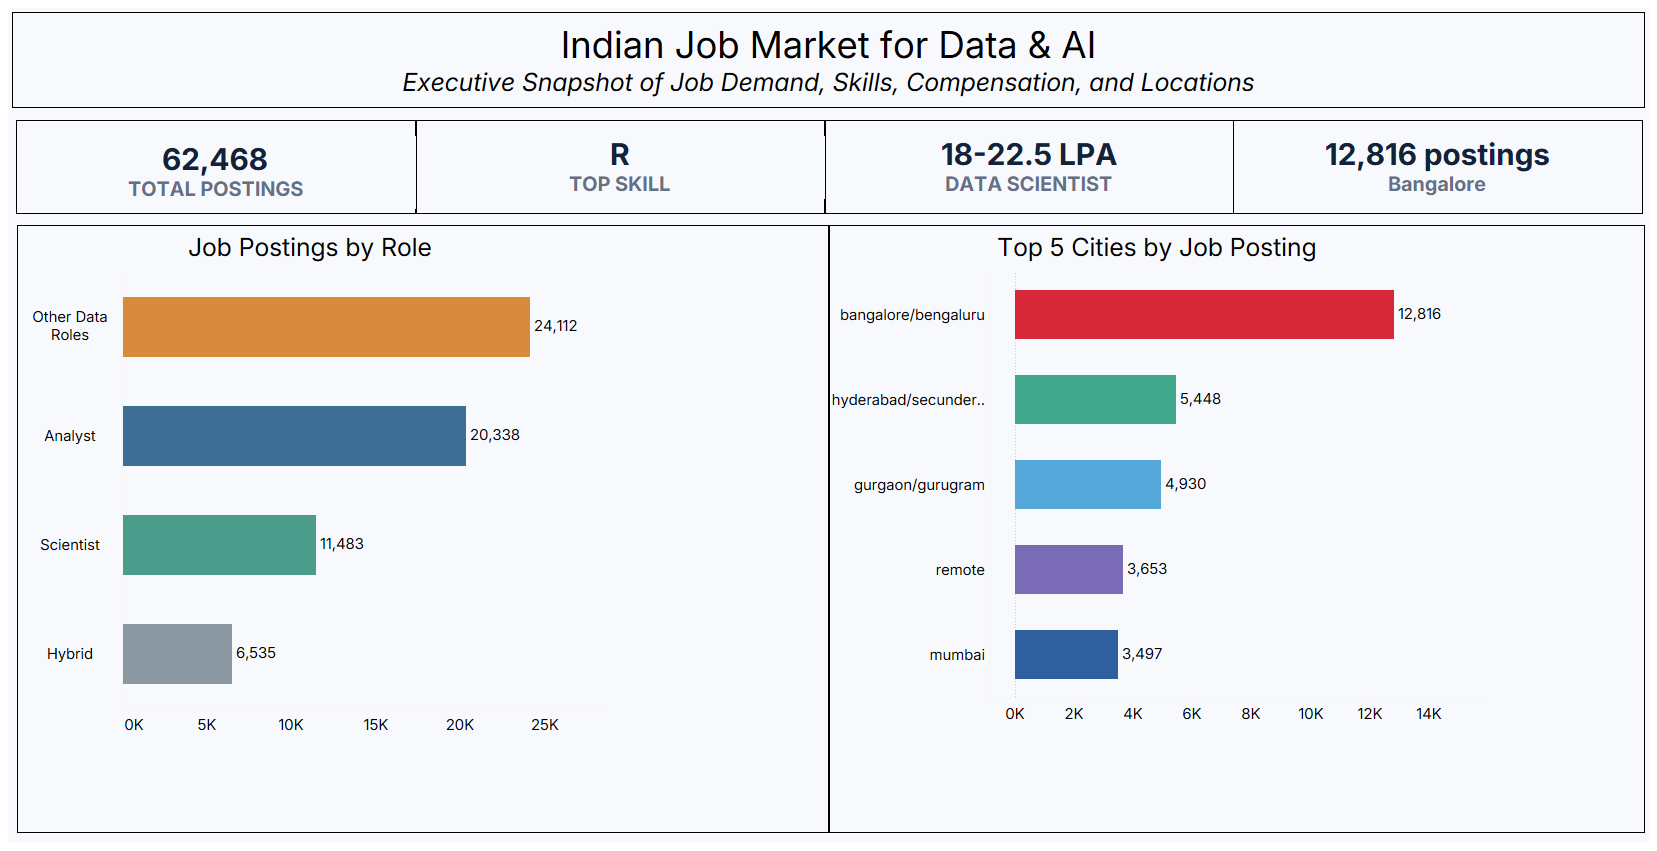

The dashboard page shown, as its layout file describes it:
{"tool":"tableau","page":{"name":"Tier 1 Executive","canvas":[1000,1000],"units":"permille","ordinal":0},"visuals":[{"type":"text","box":[4.8,9.4,990.3,122.5]},{"type":"worksheet","title":"Total postings","mark":"Automatic","box":[9.5,140.6,241.6,110.7]},{"type":"worksheet","title":"Top skill","mark":"Automatic","box":[251.1,140.6,246.7,110.7]},{"type":"worksheet","title":"Top packag","mark":"Automatic","box":[497.8,140.6,246.7,110.7]},{"type":"worksheet","title":"Top city","mark":"Automatic","box":[744.3,141,247.1,110.5]},{"type":"worksheet","title":"Posting by role","mark":"Automatic","rows":["role_bucket"],"cols":["posting_id"],"box":[10.2,264.3,489.8,714.8]},{"type":"worksheet","title":"Top 5 cities","mark":"Automatic","rows":["locations"],"cols":["posting_id"],"box":[500.3,264.4,492.3,714.5]}]}

Visuals, with their boxes on the dashboard's canvas, which has no fixed pixel size, in thousandths of its width and height (x1, y1, x2, y2). These are canvas units, not pixel positions in the 1657x851 screenshot, which may show the page scaled, cropped or inside an application window:
text: [x1=5, y1=9, x2=995, y2=132]
"Total postings" worksheet: [x1=10, y1=141, x2=251, y2=251]
"Top skill" worksheet: [x1=251, y1=141, x2=498, y2=251]
"Top packag" worksheet: [x1=498, y1=141, x2=744, y2=251]
"Top city" worksheet: [x1=744, y1=141, x2=991, y2=252]
"Posting by role" worksheet: [x1=10, y1=264, x2=500, y2=979]
"Top 5 cities" worksheet: [x1=500, y1=264, x2=993, y2=979]
